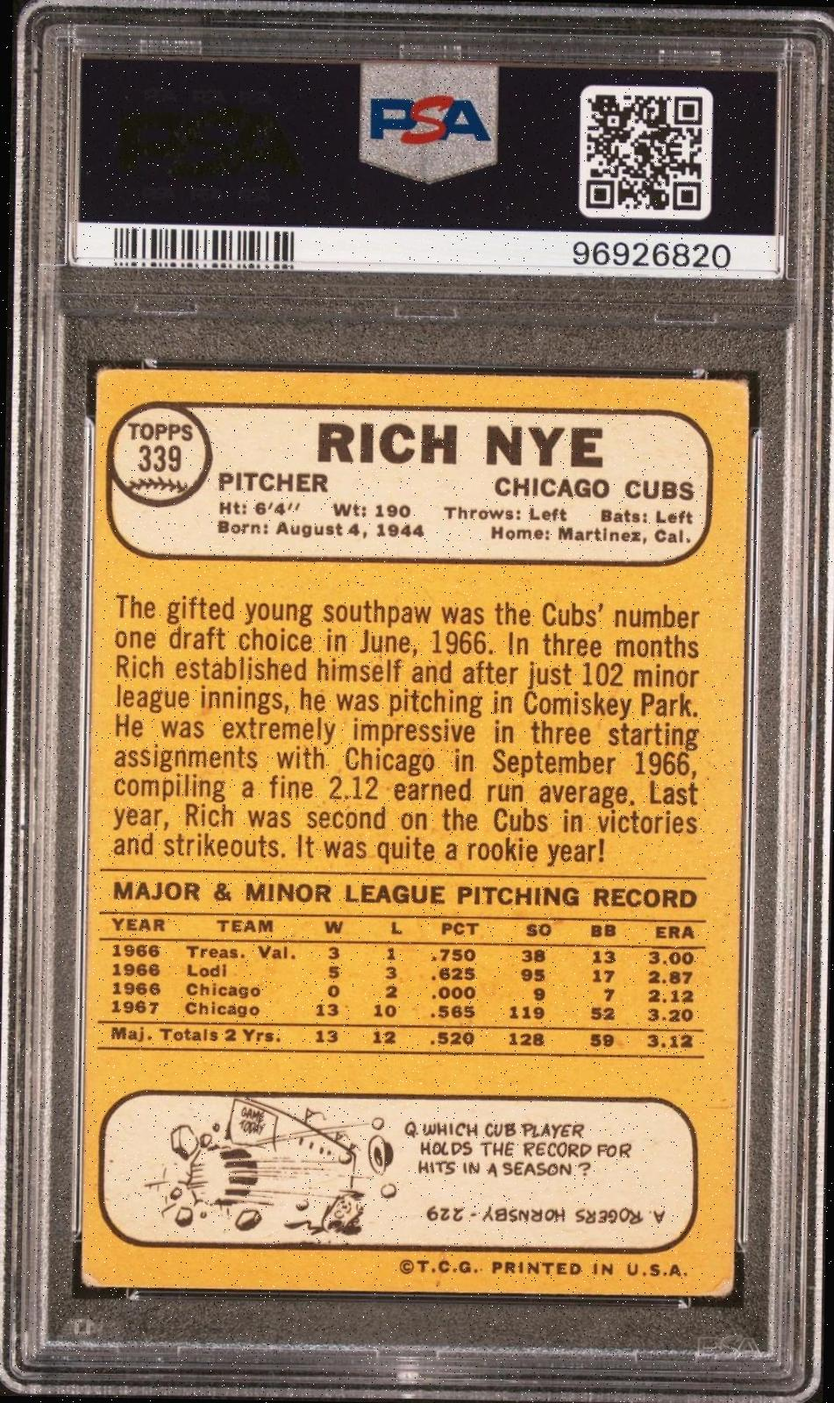card-2UtV: (79, 366, 750, 1298)
